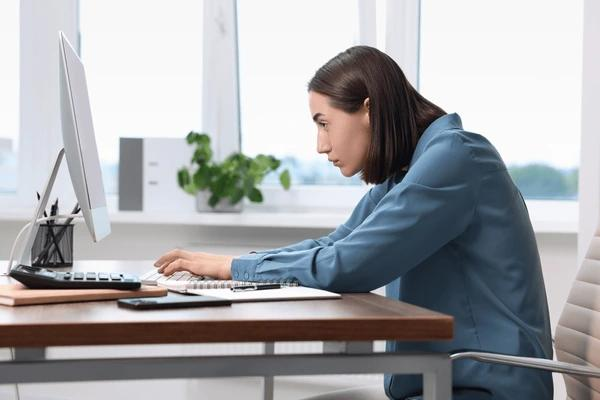Bad Sitting Posture: (78, 10, 583, 357)
